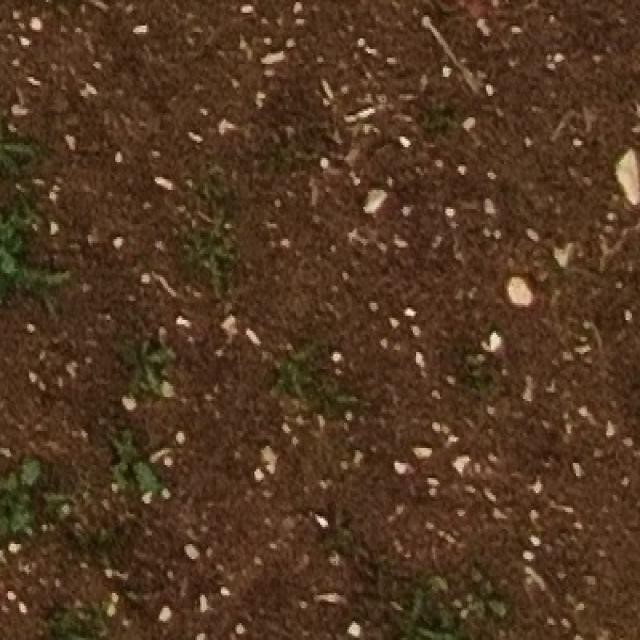cirse: (121, 359, 162, 411), (123, 346, 164, 395), (126, 352, 167, 401)
